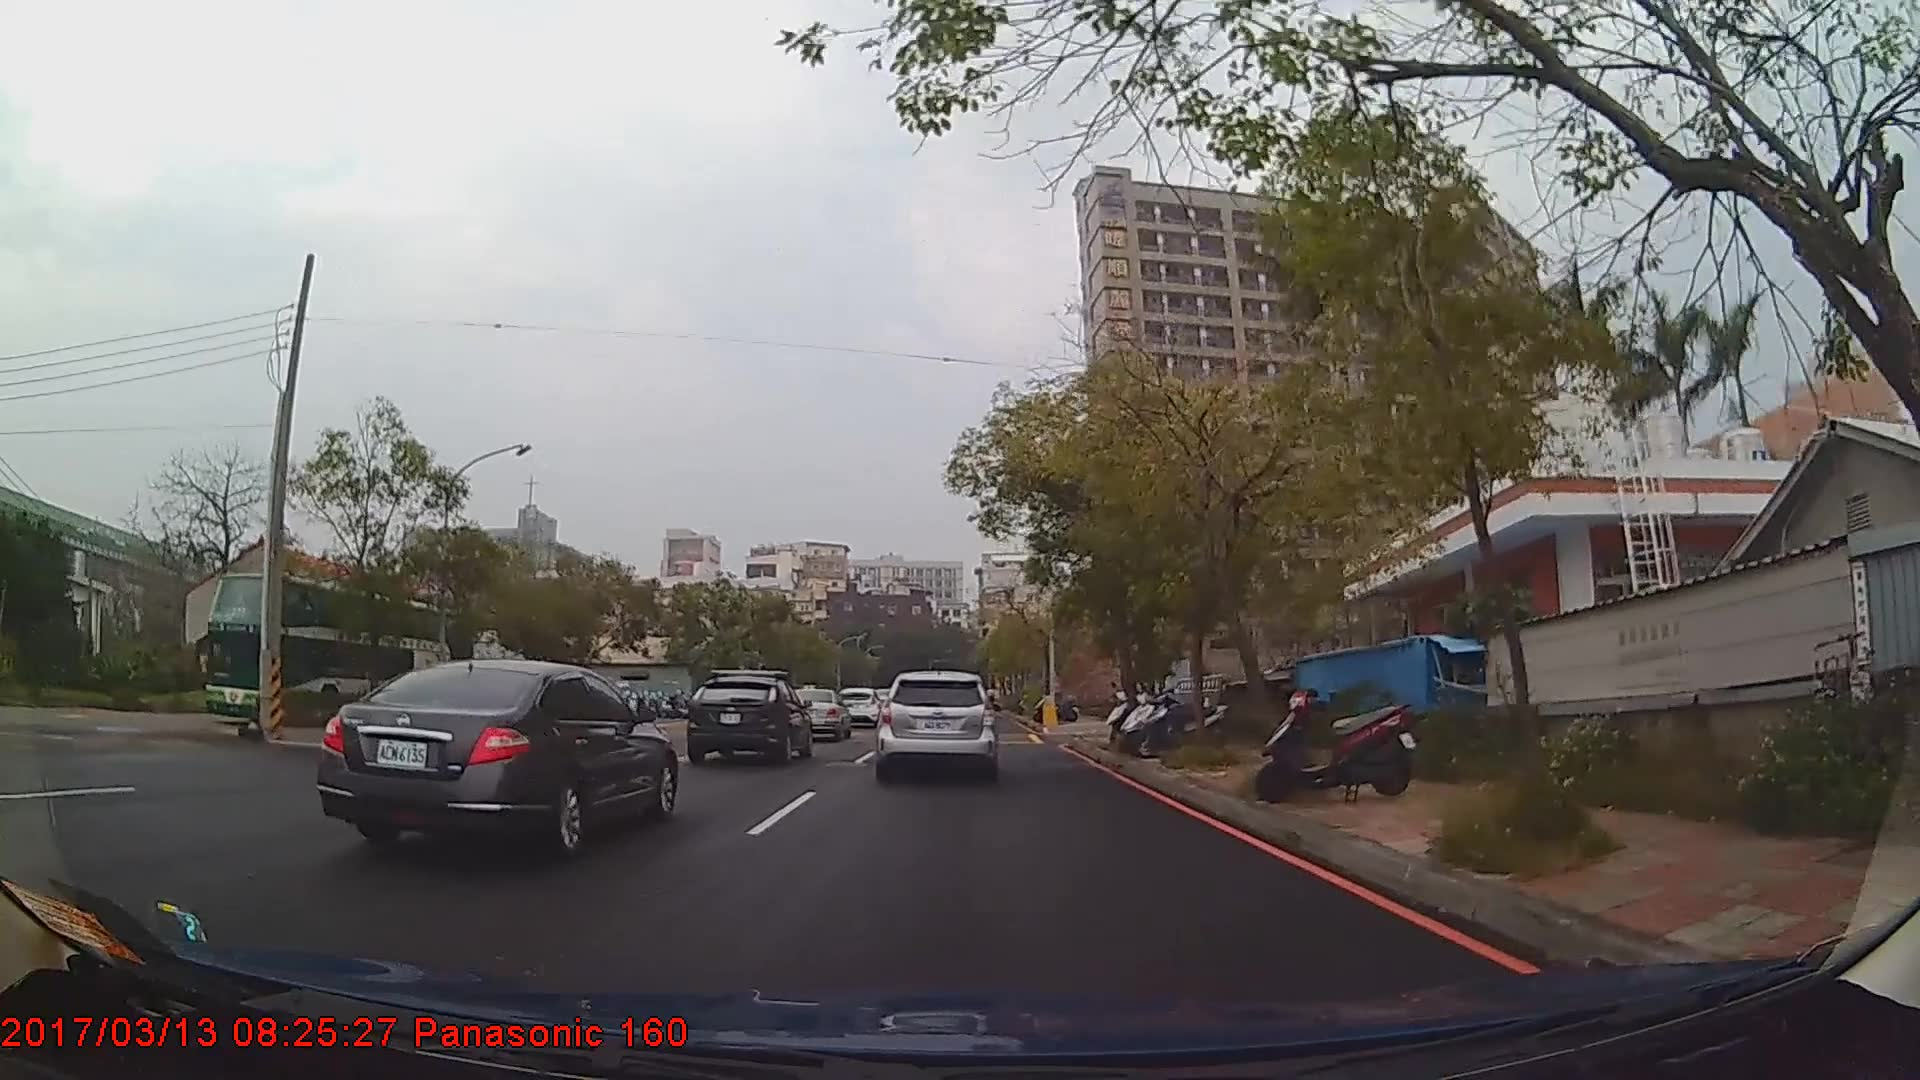vehicle: (315, 658, 676, 855), (200, 574, 444, 735), (876, 666, 996, 778), (684, 669, 811, 765), (787, 684, 851, 738), (835, 684, 881, 727)
